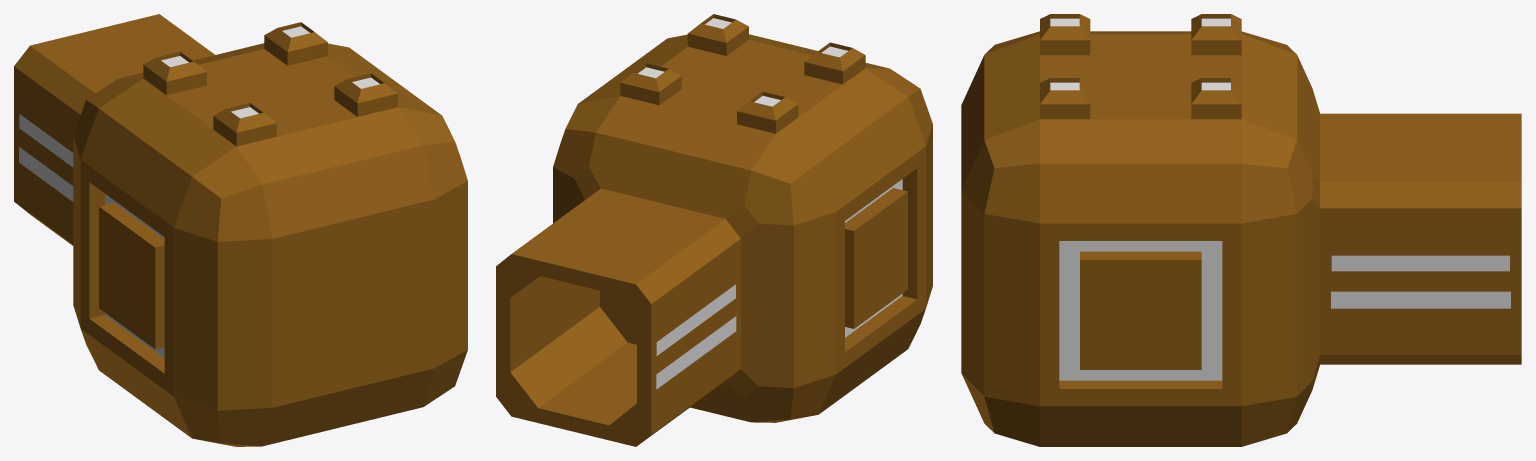
File: Canon cuivre .fbx
3 renders of one model, left to right at view 1: azimuth 30°, elevation 25°; view 2: azimuth 150°, elevation 25°; view 3: azimuth 270°, elevation 25°, orthographic. The views are drawn at different scales.
Parts seen in each view (by area): view 1: Cube; view 2: Cube; view 3: Cube.
Boxes of the visible parts, <box> form: Cube: <box>14,14,467,446</box>; Cube: <box>496,14,932,446</box>; Cube: <box>961,14,1521,446</box>.
Size of the model in its own units: 1000 by 1075 by 1561.
